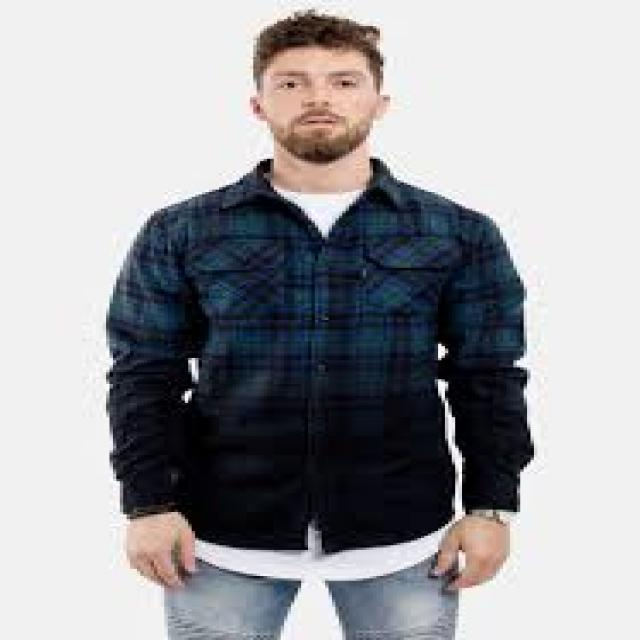plaid: (105, 162, 537, 539)
